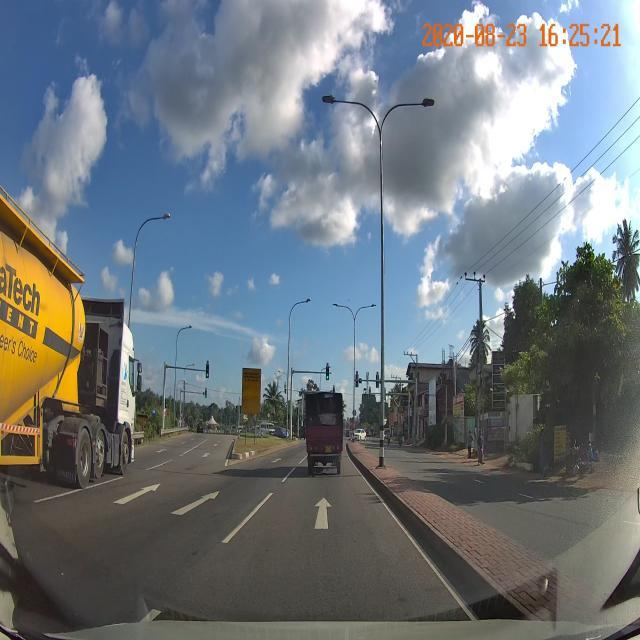forward: (206, 485, 429, 559)
